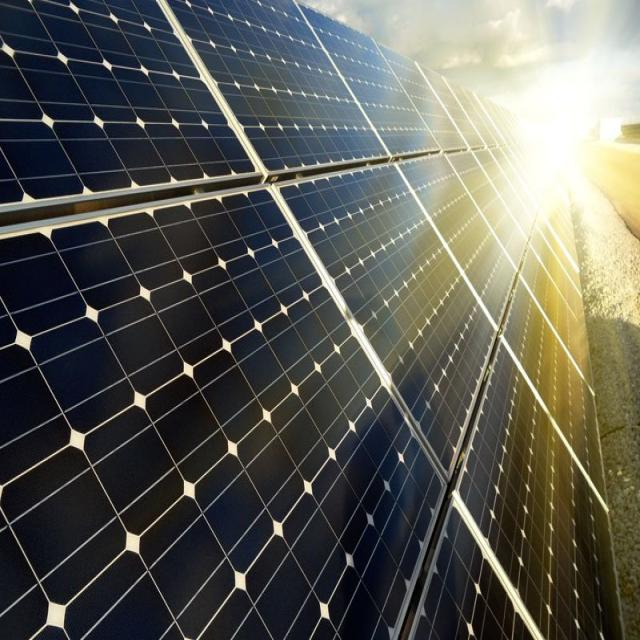clean-solar-panel: (1, 0, 621, 640)
